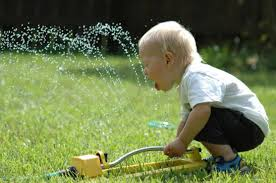child: (127, 17, 268, 173)
